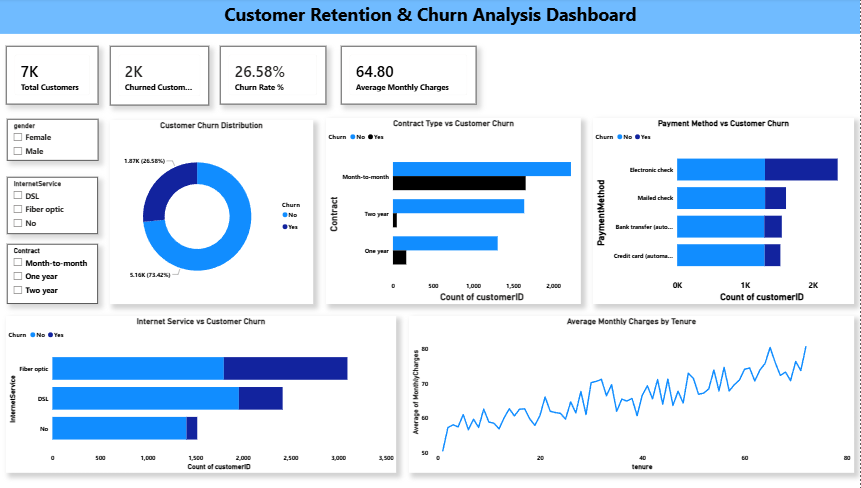

Layout of this report page (visuals, bound fields, positions):
{"tool":"powerbi","page":{"name":"Page 1","canvas":[1800,1029],"ordinal":0},"visuals":[{"type":"cardVisual","fields":{"Data":["Customer Churn.Total Customers"]},"box":[12.2,99.6,193.1,122],"z":0},{"type":"cardVisual","fields":{"Data":["Customer Churn.Churned Customers"]},"box":[229.7,99.6,207.3,124],"z":1000},{"type":"cardVisual","fields":{"Data":["Customer Churn.Churn Rate %"]},"box":[459.3,99.6,221.5,122],"z":2000},{"type":"donutChart","title":"Customer Churn Distribution","fields":{"Category":["Customer Churn.Churn"],"Y":["CountNonNull(Customer Churn.customerID)"]},"box":[230.1,255.2,424.6,384.8],"z":3000},{"type":"clusteredBarChart","title":"Contract Type vs Customer Churn","fields":{"Series":["Customer Churn.Churn"],"Category":["Customer Churn.Contract"],"Y":["CountNonNull(Customer Churn.customerID)"]},"box":[681.8,251,533.3,389],"z":4000},{"type":"barChart","title":"Internet Service vs Customer Churn","fields":{"Category":["Customer Churn.InternetService"],"Series":["Customer Churn.Churn"],"Y":["CountNonNull(Customer Churn.customerID)"]},"box":[12.5,665.1,815.7,328.4],"z":5000},{"type":"barChart","title":"Payment Method vs Customer Churn","fields":{"Category":["Customer Churn.PaymentMethod"],"Y":["CountNonNull(Customer Churn.customerID)"],"Series":["Customer Churn.Churn"]},"box":[1240.2,251,545.9,389],"z":6000},{"type":"lineChart","title":"Average Monthly Charges by Tenure","fields":{"Category":["Customer Churn.tenure"],"Y":["Avg(Customer Churn.MonthlyCharges)"]},"box":[855.4,665.1,930.7,328.4],"z":7000},{"type":"slicer","fields":{"Values":["Customer Churn.gender"]},"box":[14.2,252,191.1,87.4],"z":8000},{"type":"slicer","fields":{"Values":["Customer Churn.Contract"]},"box":[14.6,514.5,190.3,125.5],"z":9000},{"type":"slicer","fields":{"Values":["Customer Churn.InternetService"]},"box":[14.6,374.4,190.3,119.2],"z":10000},{"type":"cardVisual","fields":{"Data":["Customer Churn.Average Monthly Charges"]},"box":[713.4,99.6,282.5,122],"z":11000},{"type":"textbox","box":[0,2,1800.8,73.2],"z":11001}]}

Visuals, with their boxes in screenshot pixels (x1, y1, x2, y2), scaled from the page's 1800x1029 canvas onto the 861x488 screenshot:
cardVisual - Customer Churn.Total Customers: {"left": 6, "top": 47, "right": 98, "bottom": 105}
cardVisual - Customer Churn.Churned Customers: {"left": 110, "top": 47, "right": 209, "bottom": 106}
cardVisual - Customer Churn.Churn Rate %: {"left": 220, "top": 47, "right": 326, "bottom": 105}
"Customer Churn Distribution" donutChart: {"left": 110, "top": 121, "right": 313, "bottom": 304}
"Contract Type vs Customer Churn" clusteredBarChart: {"left": 326, "top": 119, "right": 581, "bottom": 304}
"Internet Service vs Customer Churn" barChart: {"left": 6, "top": 315, "right": 396, "bottom": 471}
"Payment Method vs Customer Churn" barChart: {"left": 593, "top": 119, "right": 854, "bottom": 304}
"Average Monthly Charges by Tenure" lineChart: {"left": 409, "top": 315, "right": 854, "bottom": 471}
slicer - Customer Churn.gender: {"left": 7, "top": 120, "right": 98, "bottom": 161}
slicer - Customer Churn.Contract: {"left": 7, "top": 244, "right": 98, "bottom": 304}
slicer - Customer Churn.InternetService: {"left": 7, "top": 178, "right": 98, "bottom": 234}
cardVisual - Customer Churn.Average Monthly Charges: {"left": 341, "top": 47, "right": 476, "bottom": 105}
textbox: {"left": 0, "top": 1, "right": 860, "bottom": 36}
